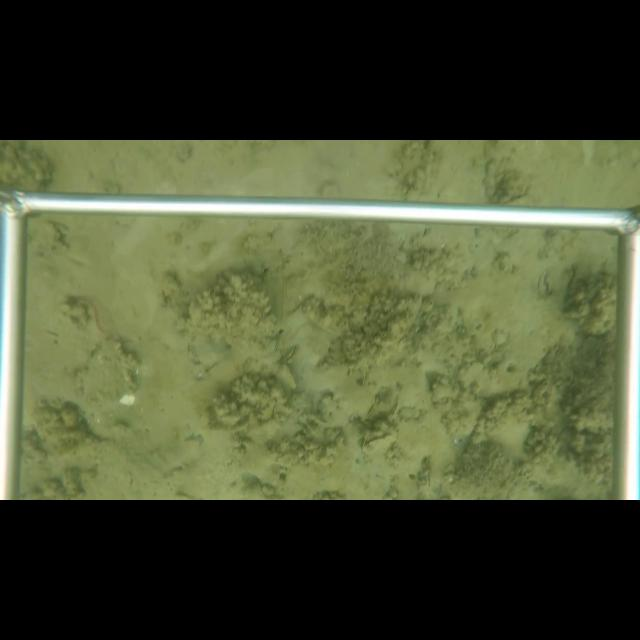Oyster-Closed: (76, 334, 142, 440)
Oyster-Open: (360, 431, 398, 458)
